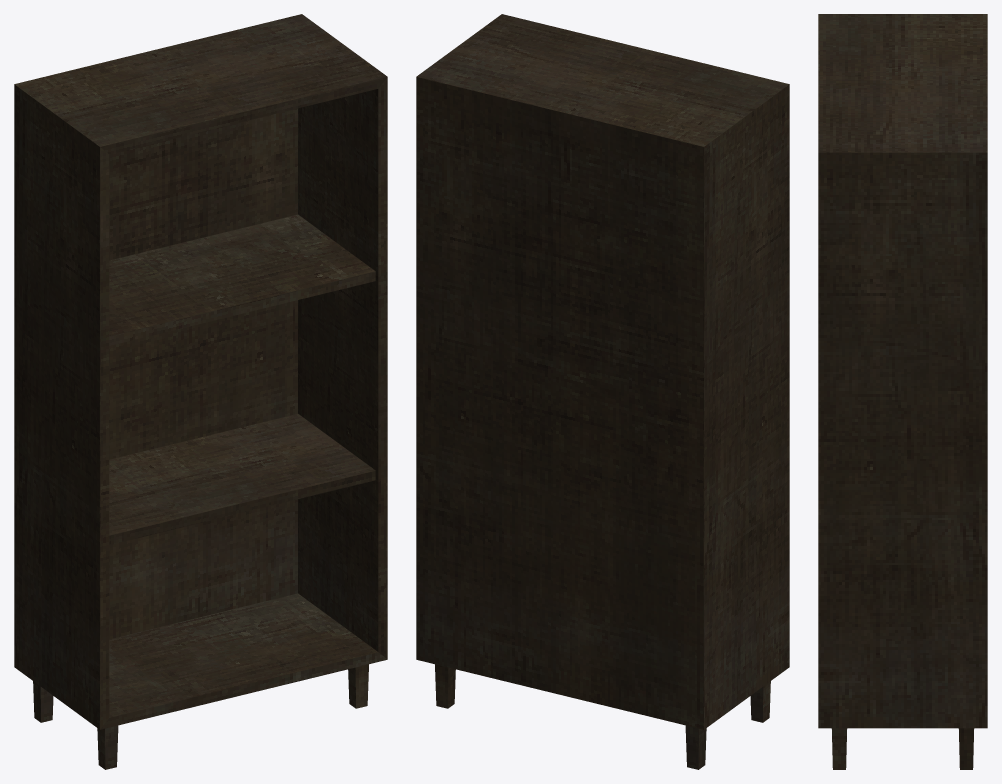
Rendered from shelf_mp_2_4.glb.
3 views of the same model, side by side, from view 1: azimuth 30°, elevation 25°; view 2: azimuth 150°, elevation 25°; view 3: azimuth 270°, elevation 25° (orthographic).
Parts seen in each view (by area): view 1: shelf_mp_2_4; view 2: shelf_mp_2_4; view 3: shelf_mp_2_4.
Boxes of the visible parts, left/top/right/bottom form: shelf_mp_2_4: left=14, top=14, right=387, bottom=769; shelf_mp_2_4: left=416, top=14, right=789, bottom=769; shelf_mp_2_4: left=818, top=14, right=987, bottom=769.
Bounding box in the file's own units: 0.62 × 1.3 × 0.32.
1 material, 1 textured.
